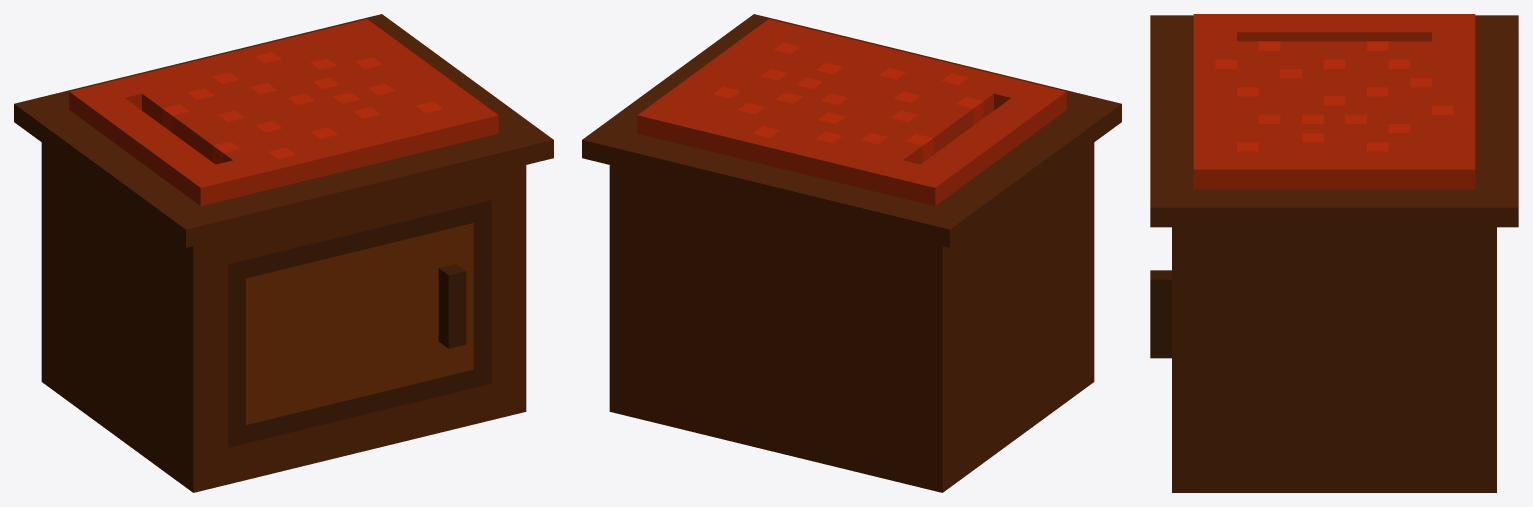
The model's file is cutting board.obj.
3 views of the same model, side by side, from view 1: azimuth 30°, elevation 25°; view 2: azimuth 150°, elevation 25°; view 3: azimuth 270°, elevation 25° (orthographic). The views are drawn at different scales.
Bounding box in the file's own units: 2.1 × 1.6 × 1.7.
